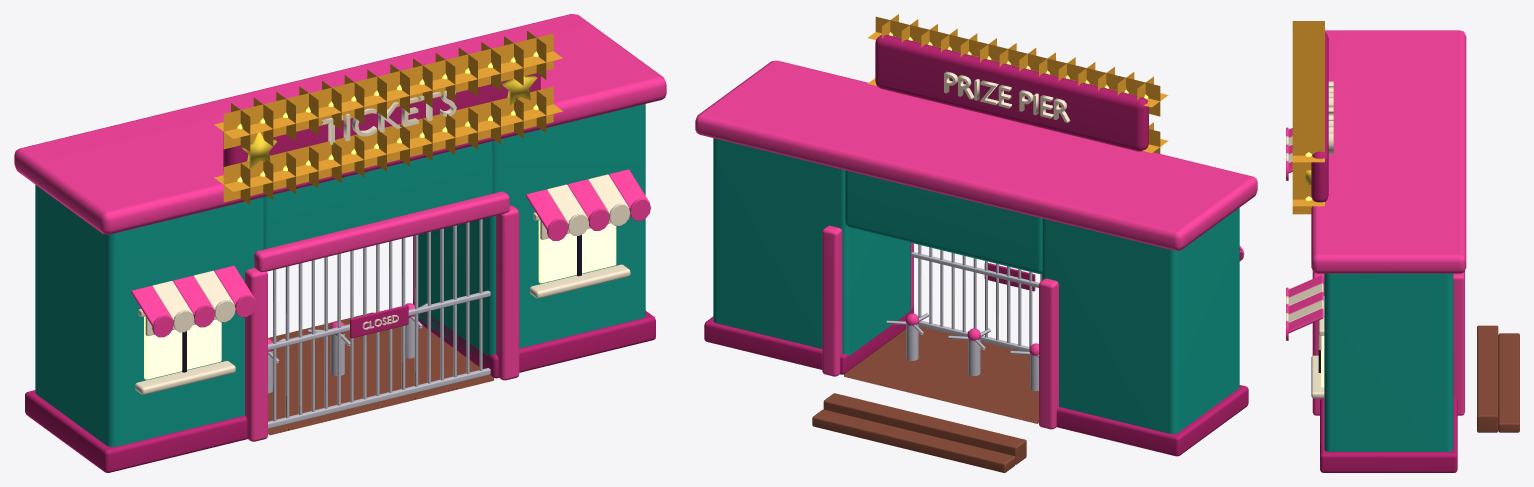
File: gatehouse.glb
3 renders of one model, left to right at view 1: azimuth 30°, elevation 25°; view 2: azimuth 150°, elevation 25°; view 3: azimuth 270°, elevation 25°, orthographic. The views are drawn at different scales.
Visible parts, largest first — view 1: Gatehouse; view 2: Gatehouse; view 3: Gatehouse.
Boxes of the visible parts, x1,y1,x2,y2 form: Gatehouse: [14, 14, 666, 472]; Gatehouse: [695, 14, 1257, 472]; Gatehouse: [1286, 21, 1519, 472].
Bounding box in the file's own units: 12.6 × 7.88 × 5.44.
